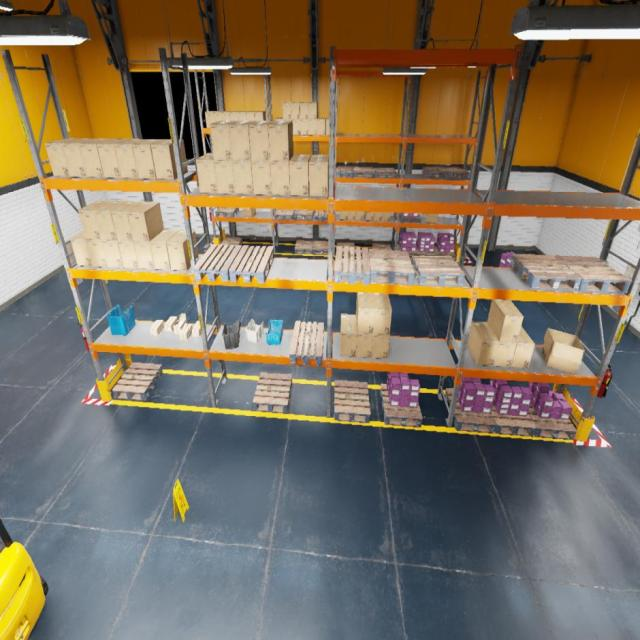box: (541, 328, 585, 374), (150, 139, 188, 179), (488, 300, 524, 342), (45, 138, 84, 176), (62, 138, 99, 177), (127, 202, 164, 241), (79, 139, 116, 177), (96, 139, 132, 178), (468, 321, 499, 366), (132, 139, 166, 179), (78, 200, 112, 240), (114, 139, 148, 178), (167, 230, 199, 271), (111, 201, 144, 240), (95, 201, 128, 240), (488, 322, 516, 367), (150, 230, 179, 270), (210, 121, 238, 160), (248, 120, 274, 160), (229, 120, 255, 160), (511, 326, 535, 368), (268, 122, 293, 162), (290, 154, 312, 196), (196, 154, 218, 194), (309, 155, 329, 196), (70, 231, 93, 266), (373, 293, 392, 335), (356, 292, 375, 334), (340, 313, 357, 357), (251, 160, 272, 194), (214, 160, 235, 194), (232, 161, 253, 194), (270, 162, 290, 196), (117, 241, 139, 269), (102, 240, 124, 268), (86, 240, 108, 267), (134, 241, 154, 269), (373, 334, 390, 358), (357, 333, 374, 357), (174, 313, 186, 334), (150, 319, 164, 336), (179, 322, 192, 340), (164, 316, 177, 332), (205, 111, 216, 127), (308, 102, 318, 119), (318, 118, 326, 136), (242, 208, 256, 218), (300, 102, 308, 119), (292, 102, 300, 119), (282, 102, 290, 119), (192, 321, 201, 336), (300, 119, 308, 135), (308, 119, 316, 135), (292, 119, 300, 135), (213, 111, 224, 122), (425, 214, 438, 223), (254, 111, 266, 120), (246, 111, 257, 120), (221, 111, 232, 120), (238, 111, 248, 120), (230, 111, 240, 120), (382, 212, 390, 222), (365, 212, 374, 220), (326, 118, 330, 136), (374, 212, 382, 220), (356, 212, 364, 220), (348, 212, 355, 220), (340, 211, 347, 219), (275, 117, 283, 121)
forklift: (0, 518, 48, 639)
pallets: (555, 255, 632, 293), (510, 254, 582, 291), (445, 388, 496, 433), (111, 362, 162, 400), (192, 244, 242, 282), (381, 383, 422, 428), (528, 403, 576, 440), (228, 245, 274, 283), (412, 255, 464, 287), (369, 249, 415, 285), (253, 372, 292, 413), (334, 380, 371, 422), (290, 321, 324, 366), (334, 246, 371, 285), (491, 404, 536, 436), (434, 246, 456, 260), (397, 245, 417, 260), (421, 167, 448, 178), (443, 167, 469, 178), (295, 240, 314, 254), (337, 242, 355, 256), (274, 209, 295, 220), (353, 167, 374, 178), (374, 168, 397, 178), (399, 213, 422, 223), (215, 208, 239, 217), (336, 166, 354, 178), (313, 241, 328, 255), (294, 210, 314, 220), (416, 245, 436, 255), (222, 237, 242, 246), (315, 210, 328, 222), (372, 244, 392, 250)
